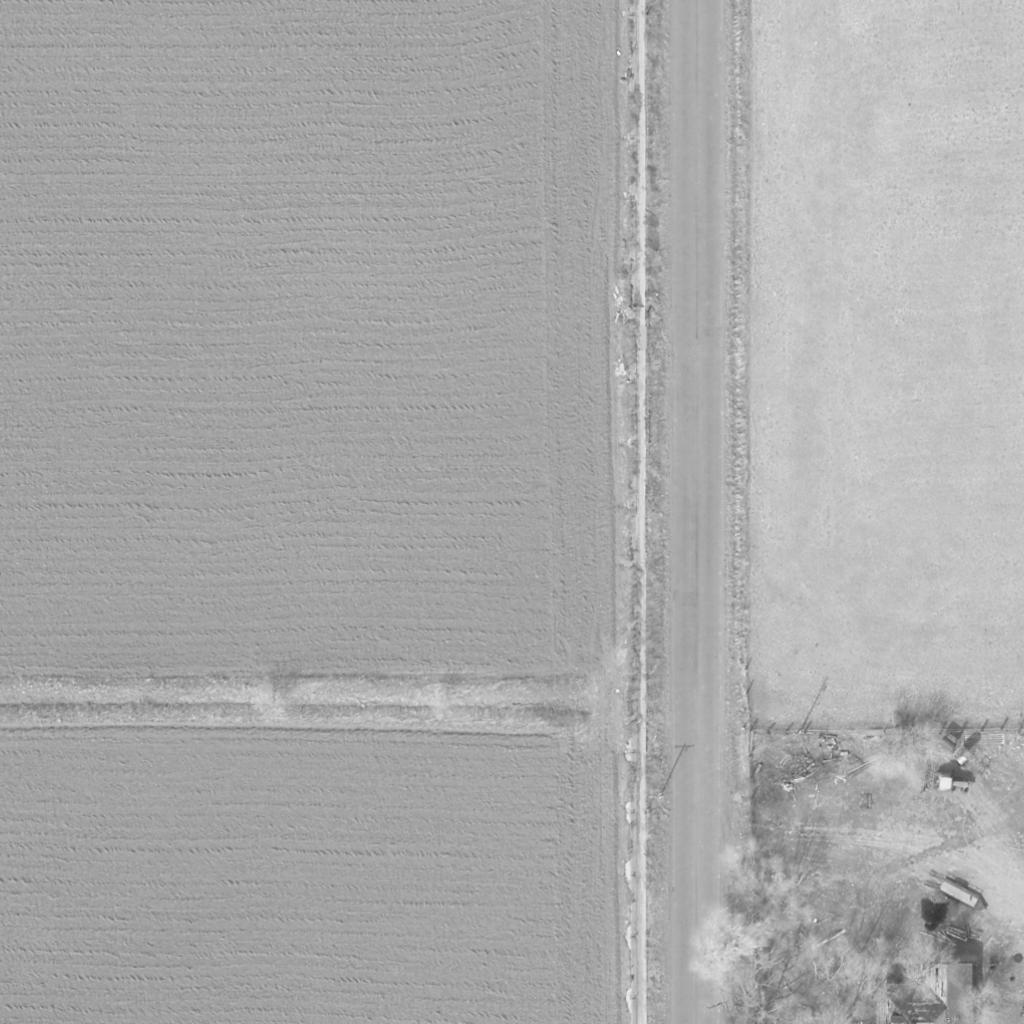vehicle: (933, 772, 973, 800)
